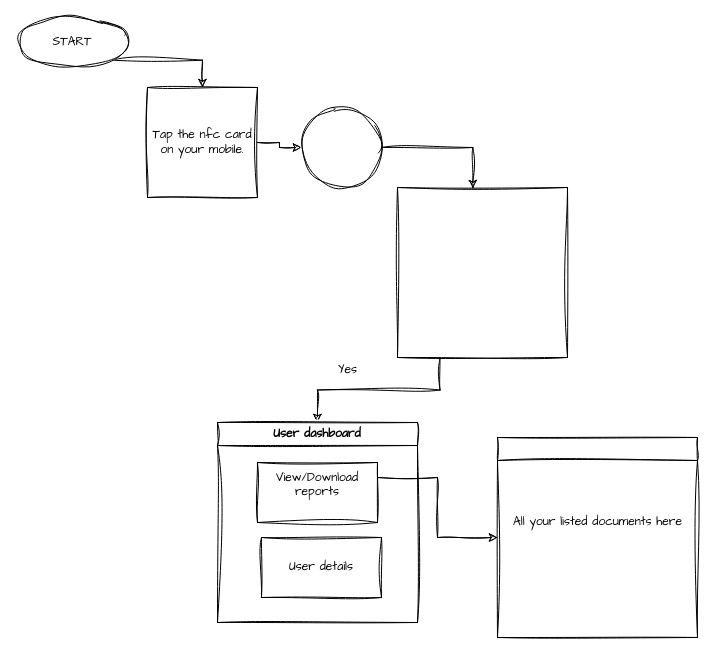
Some shapes in this 715 by 655 pixel diagram are drawn without their labels. Here are the shapes that lost their labels. From the top down, the box of each, then its label:
(300, 106, 382, 188): Success
(396, 186, 568, 358): Enter your password and login
(496, 436, 698, 638): View/Download documents
